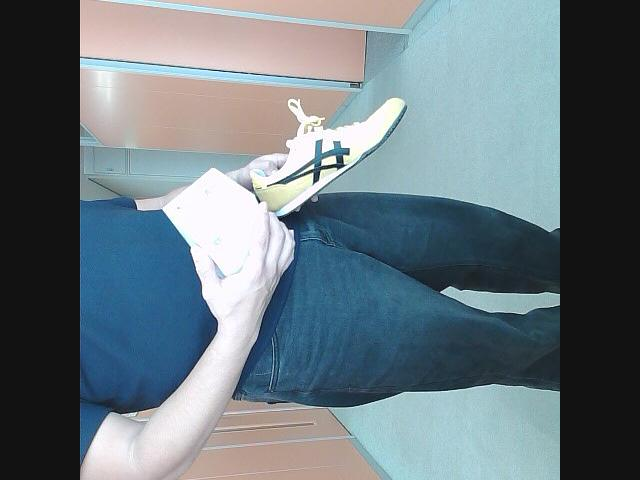Blind_box: (162, 162, 270, 278)
Shoes: (251, 100, 412, 222)
